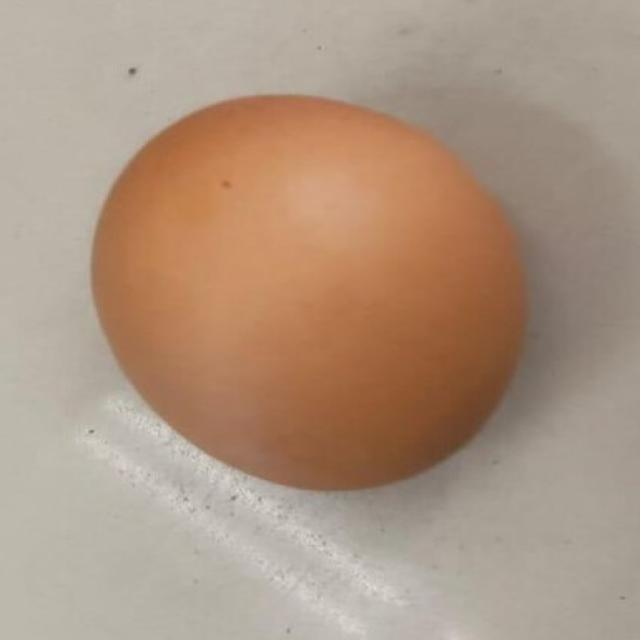fresh: (76, 79, 545, 506)
